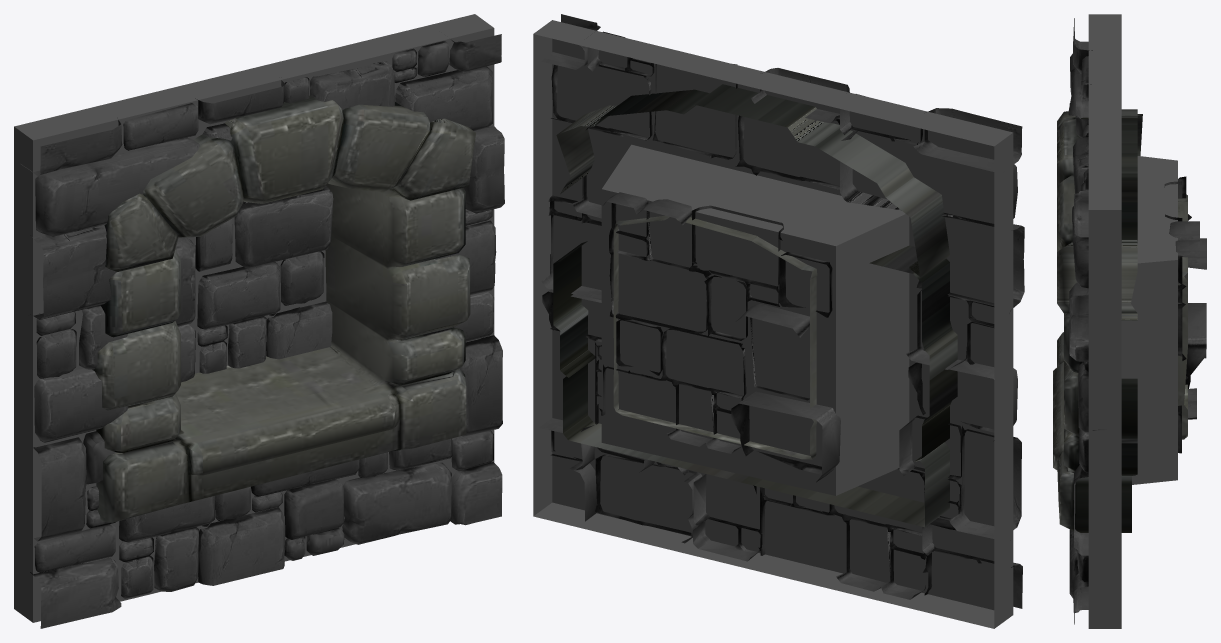
The model's file is Wall_Recessed.fbx.
3 views of the same model, side by side, from view 1: azimuth 30°, elevation 25°; view 2: azimuth 150°, elevation 25°; view 3: azimuth 270°, elevation 25° (orthographic). The views are drawn at different scales.
Parts seen in each view (by area): view 1: Wall_Recessed; view 2: Wall_Recessed; view 3: Wall_Recessed.
Boxes of the visible parts, <box> form: Wall_Recessed: <box>14,14,504,628</box>; Wall_Recessed: <box>533,14,1024,628</box>; Wall_Recessed: <box>1053,14,1206,628</box>.
Size of the model in its own units: 302 by 300 by 99.77.
